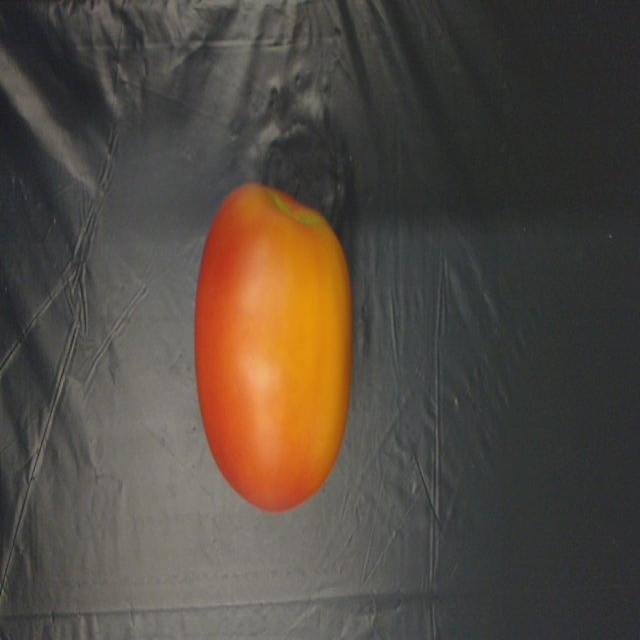sari: (194, 172, 364, 536)
